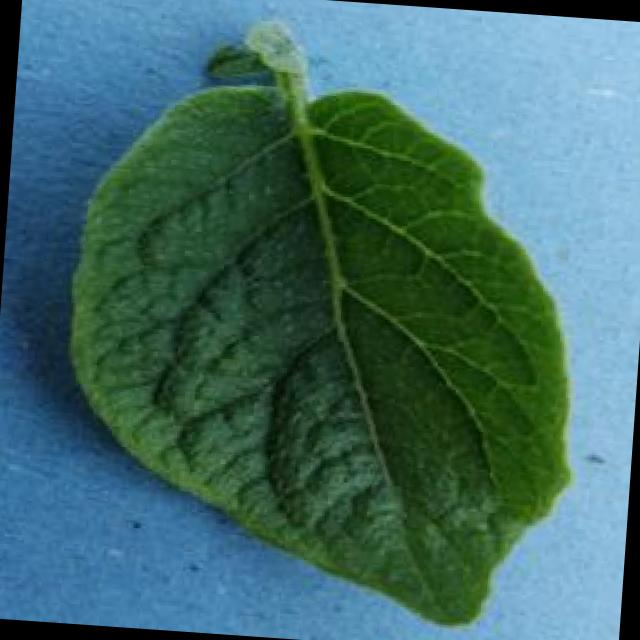Potato_Healthy: (50, 21, 598, 634)
